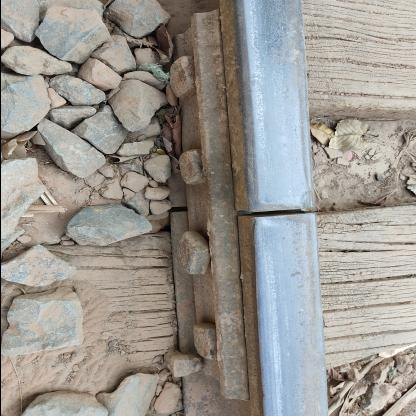Non Defective 2: (220, 170, 336, 256)
Non Defective 3: (146, 0, 236, 394)
